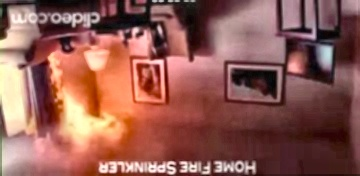fire: (45, 88, 127, 156)
